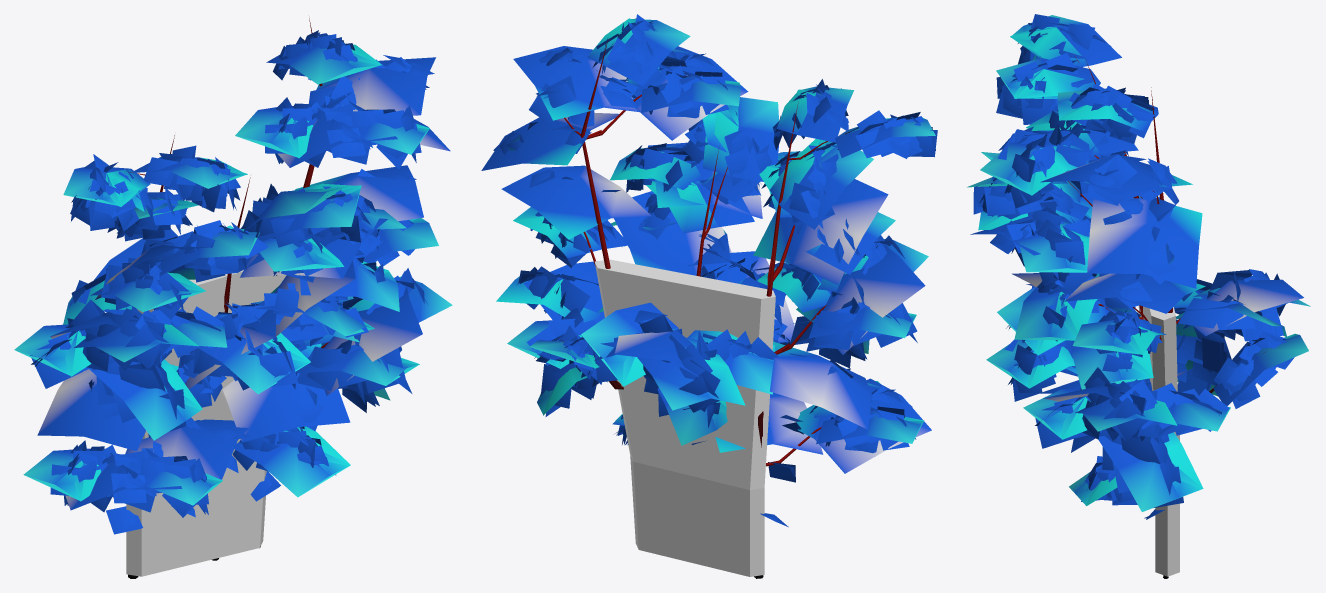
File: eucalyptus_group.dae
3 views of the same model, side by side, from view 1: azimuth 30°, elevation 25°; view 2: azimuth 150°, elevation 25°; view 3: azimuth 270°, elevation 25° (orthographic). The views are drawn at different scales.
Visible parts, largest first — view 1: eucalyptus_group_a600, eucalyptus_group_a200, Colmesh-1; view 2: eucalyptus_group_a600, Colmesh-1, eucalyptus_group_a200; view 3: eucalyptus_group_a600, eucalyptus_group_a200, Colmesh-1.
Boxes of the visible parts, left/top/right/bottom form: eucalyptus_group_a600: left=14, top=18, right=452, bottom=578; eucalyptus_group_a200: left=16, top=30, right=432, bottom=577; Colmesh-1: left=126, top=270, right=286, bottom=576; eucalyptus_group_a600: left=481, top=14, right=935, bottom=578; Colmesh-1: left=594, top=259, right=775, bottom=576; eucalyptus_group_a200: left=493, top=15, right=937, bottom=578; eucalyptus_group_a600: left=967, top=14, right=1310, bottom=578; eucalyptus_group_a200: left=968, top=15, right=1295, bottom=578; Colmesh-1: left=1138, top=305, right=1179, bottom=576.
Bounding box in the file's own units: 17.16 × 12.51 × 20.48.
